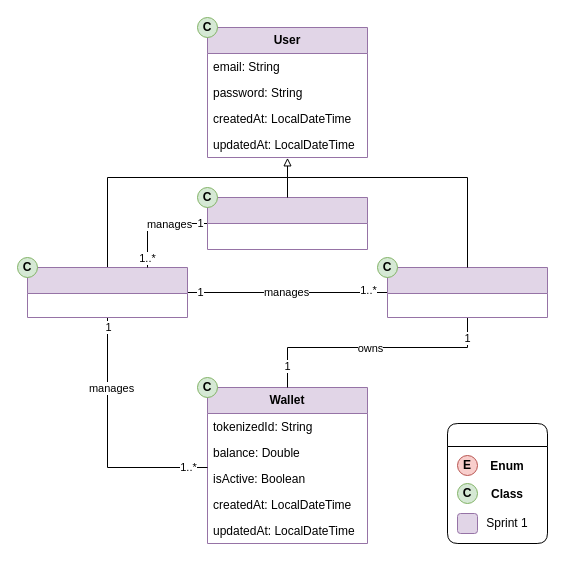
Image size: 565x564. Some labels were removed from this diagram. The shapes that lost their labels are listed below. From the top down, each one's box as (x1, y1, x2, y2) in pixels, then its label:
(206, 196, 368, 250): Super Admin
(26, 266, 188, 318): Admin
(386, 266, 548, 318): End User
(446, 422, 548, 544): Sprints
